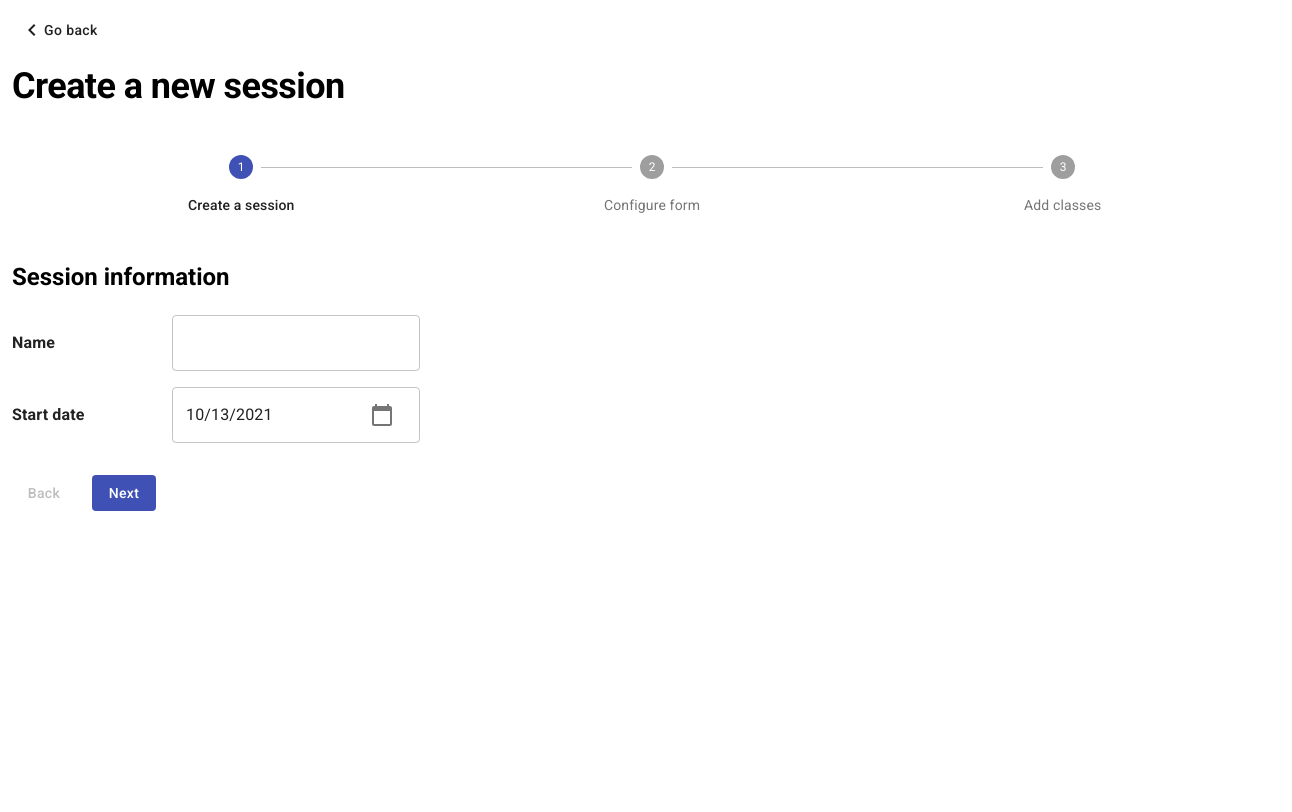
Test case: CreateSession › when on the registration form (second) step › renders the step title
Click the button "Next" at (124, 493), box [92,474,156,511]
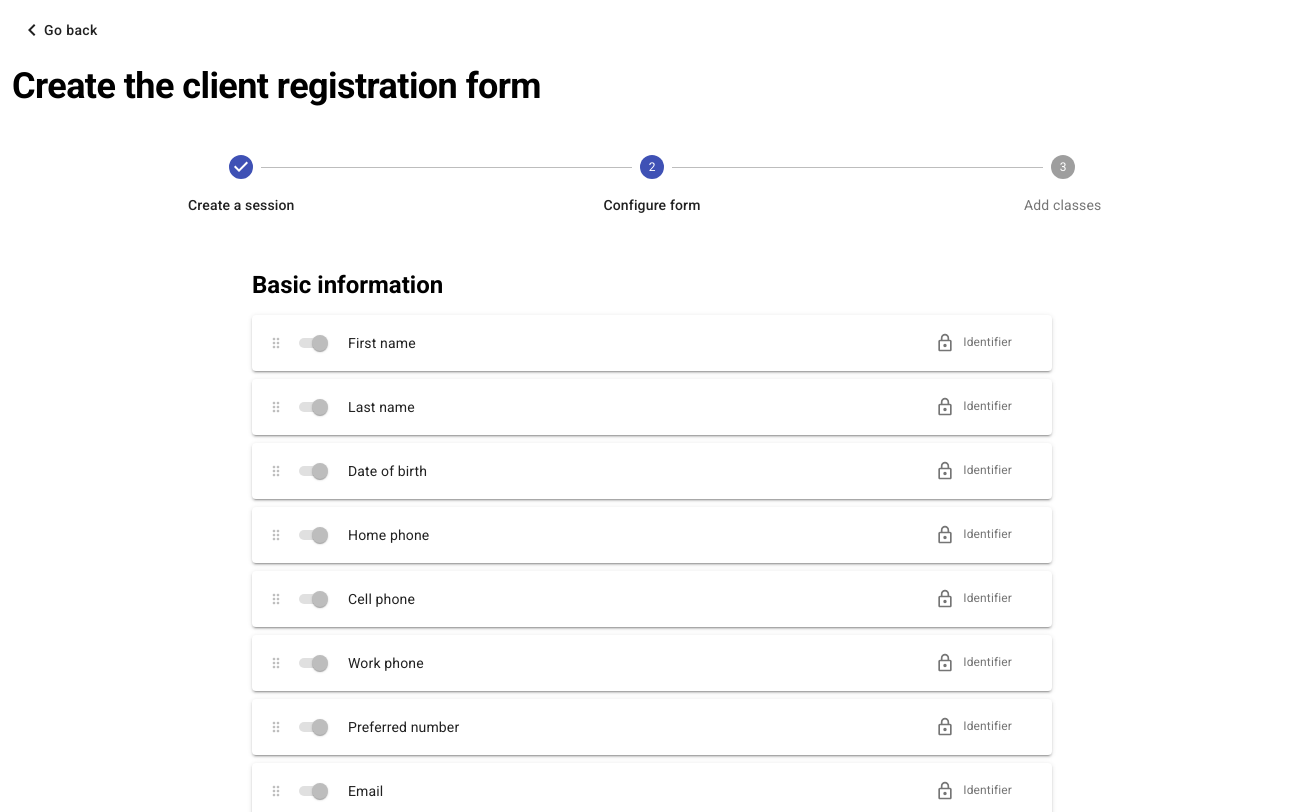
Check: the heading "Create the client registration form" is shown, box [12,64,541,106]
